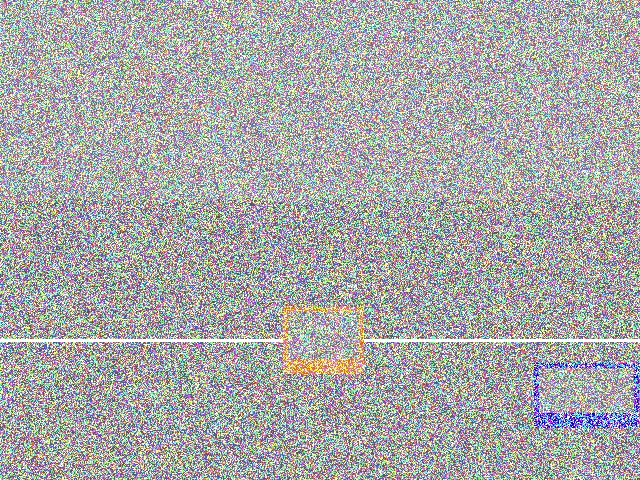motorcycle: (219, 360, 293, 458), (346, 322, 447, 387)
truck: (347, 153, 434, 267)
